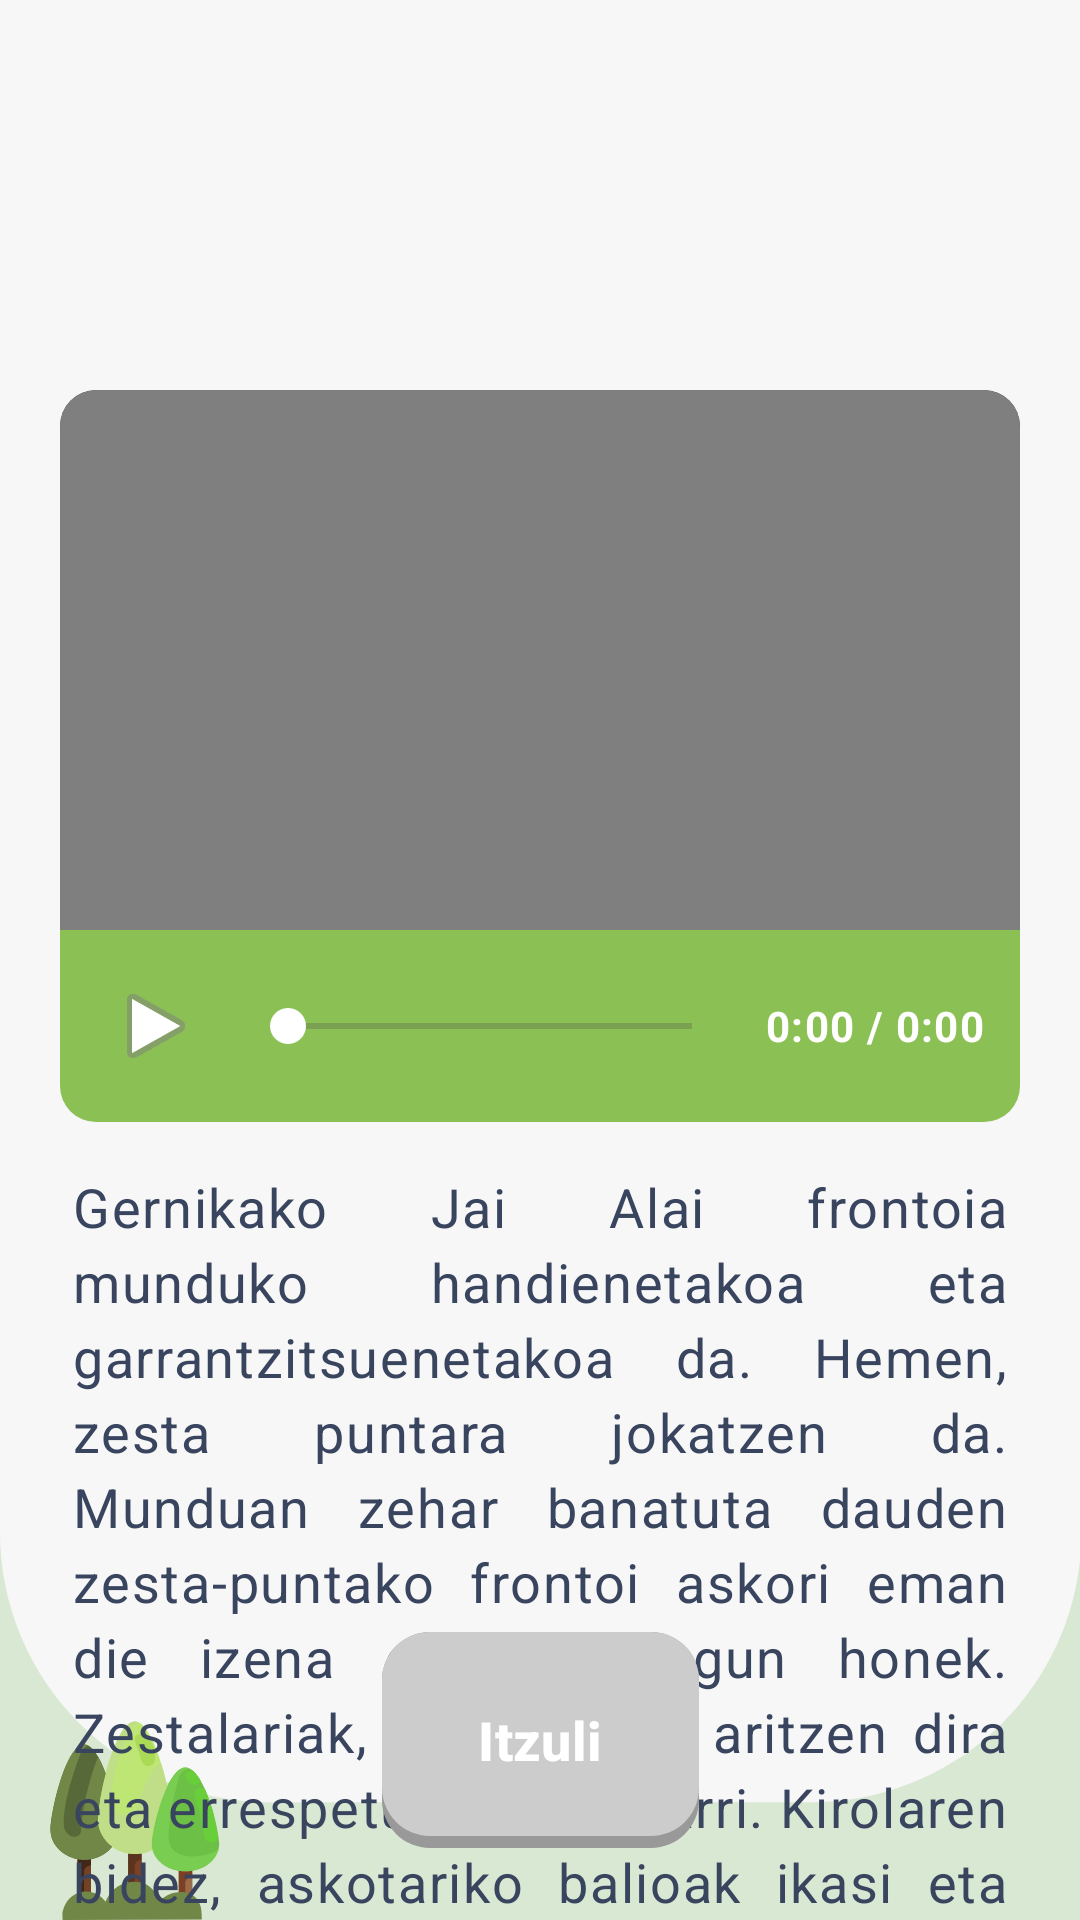

Screen size 1080*1920. Icon name, then its box in pixels as (x1, y1, x2, y2):
Erreproduzitu/Gelditu: (127, 994, 185, 1058)
